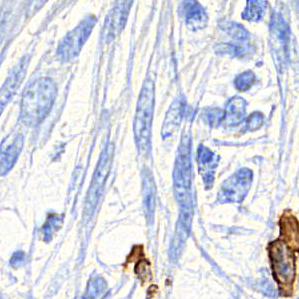Lymphocyte: (266, 237, 296, 287)
